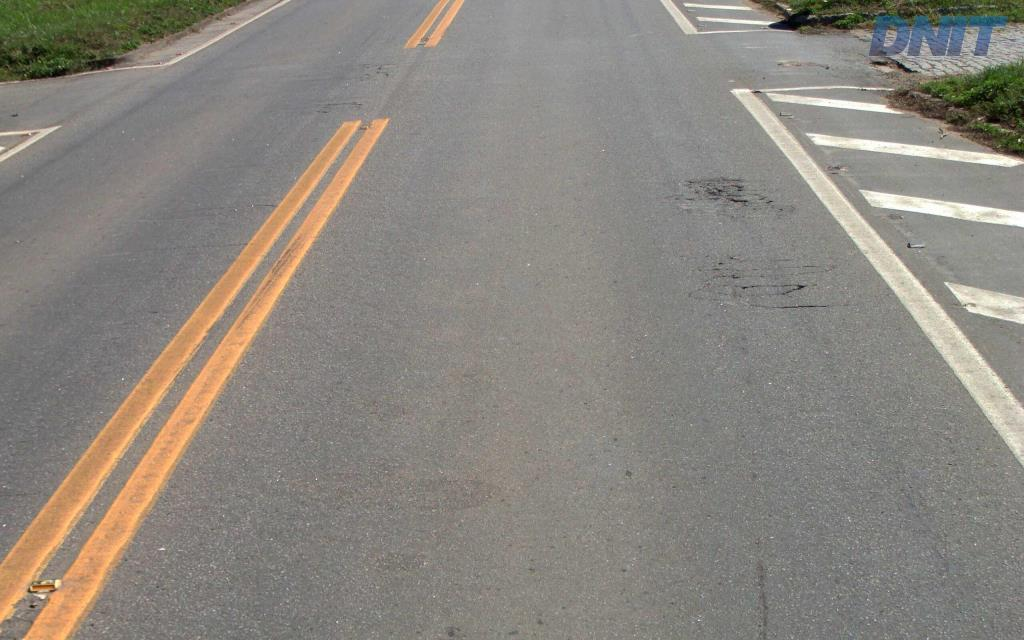crack: (699, 182, 748, 206)
